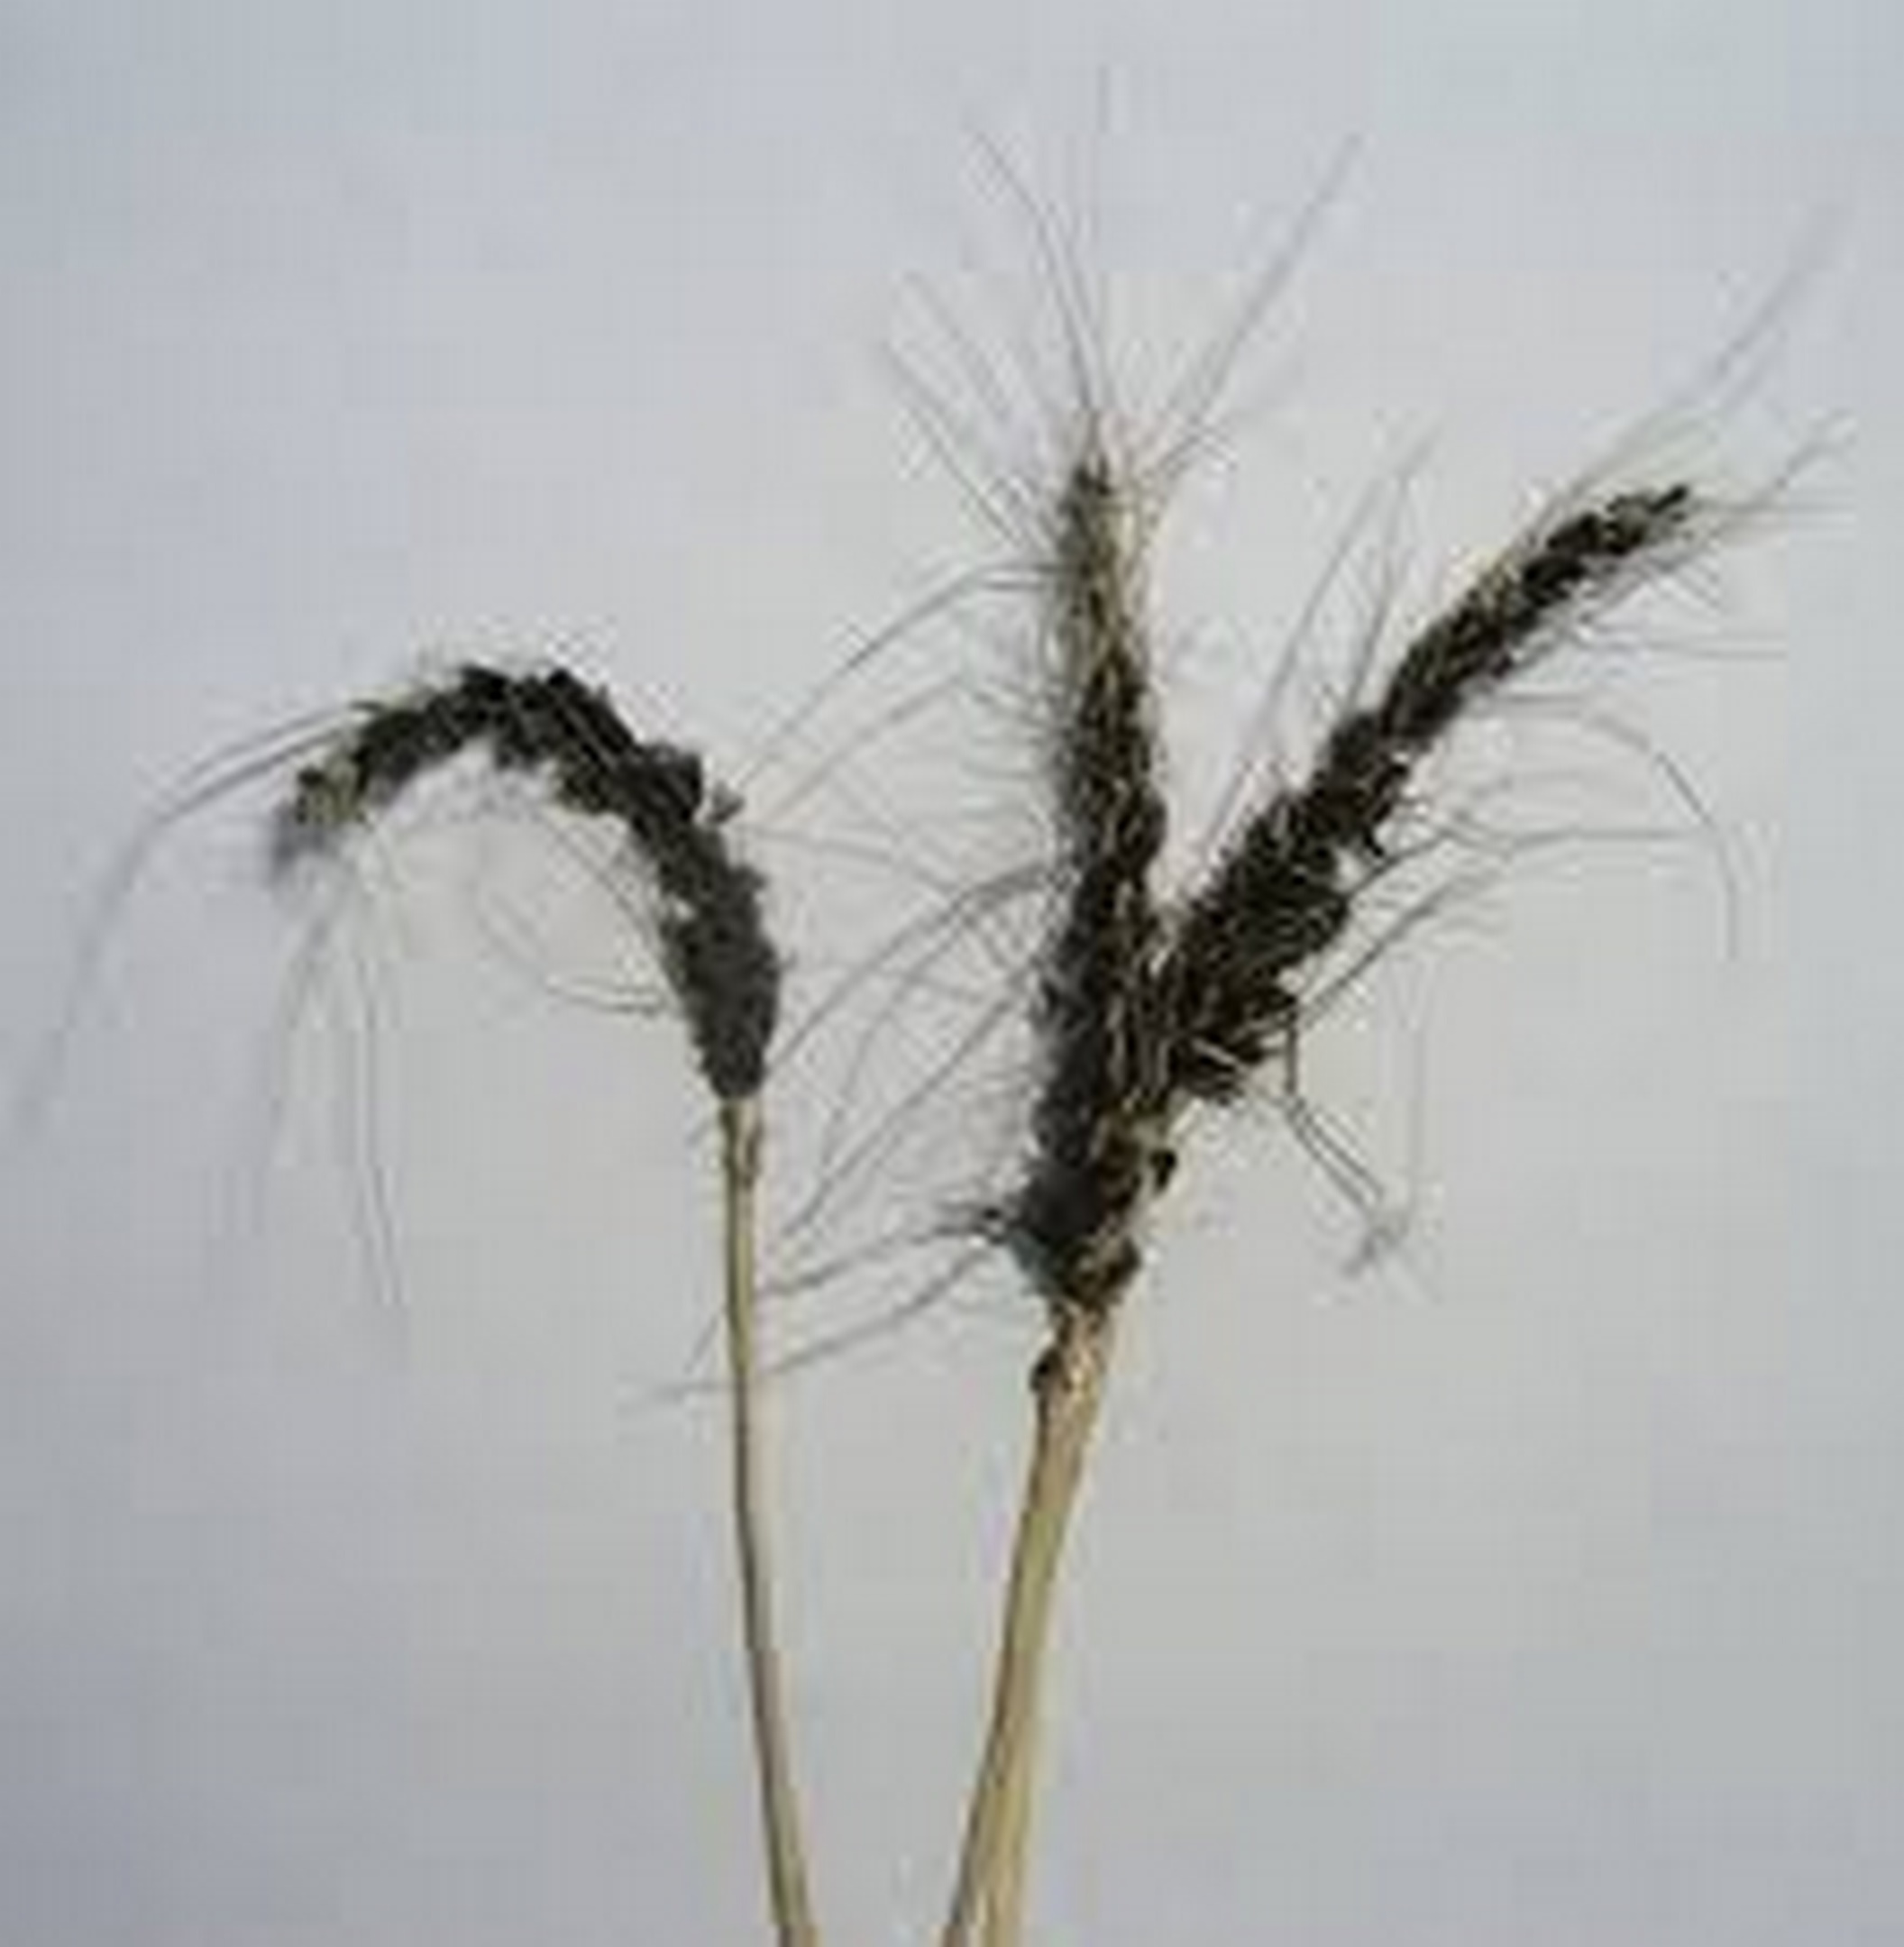Wheat Loose Smut: (209, 431, 1833, 1318)
